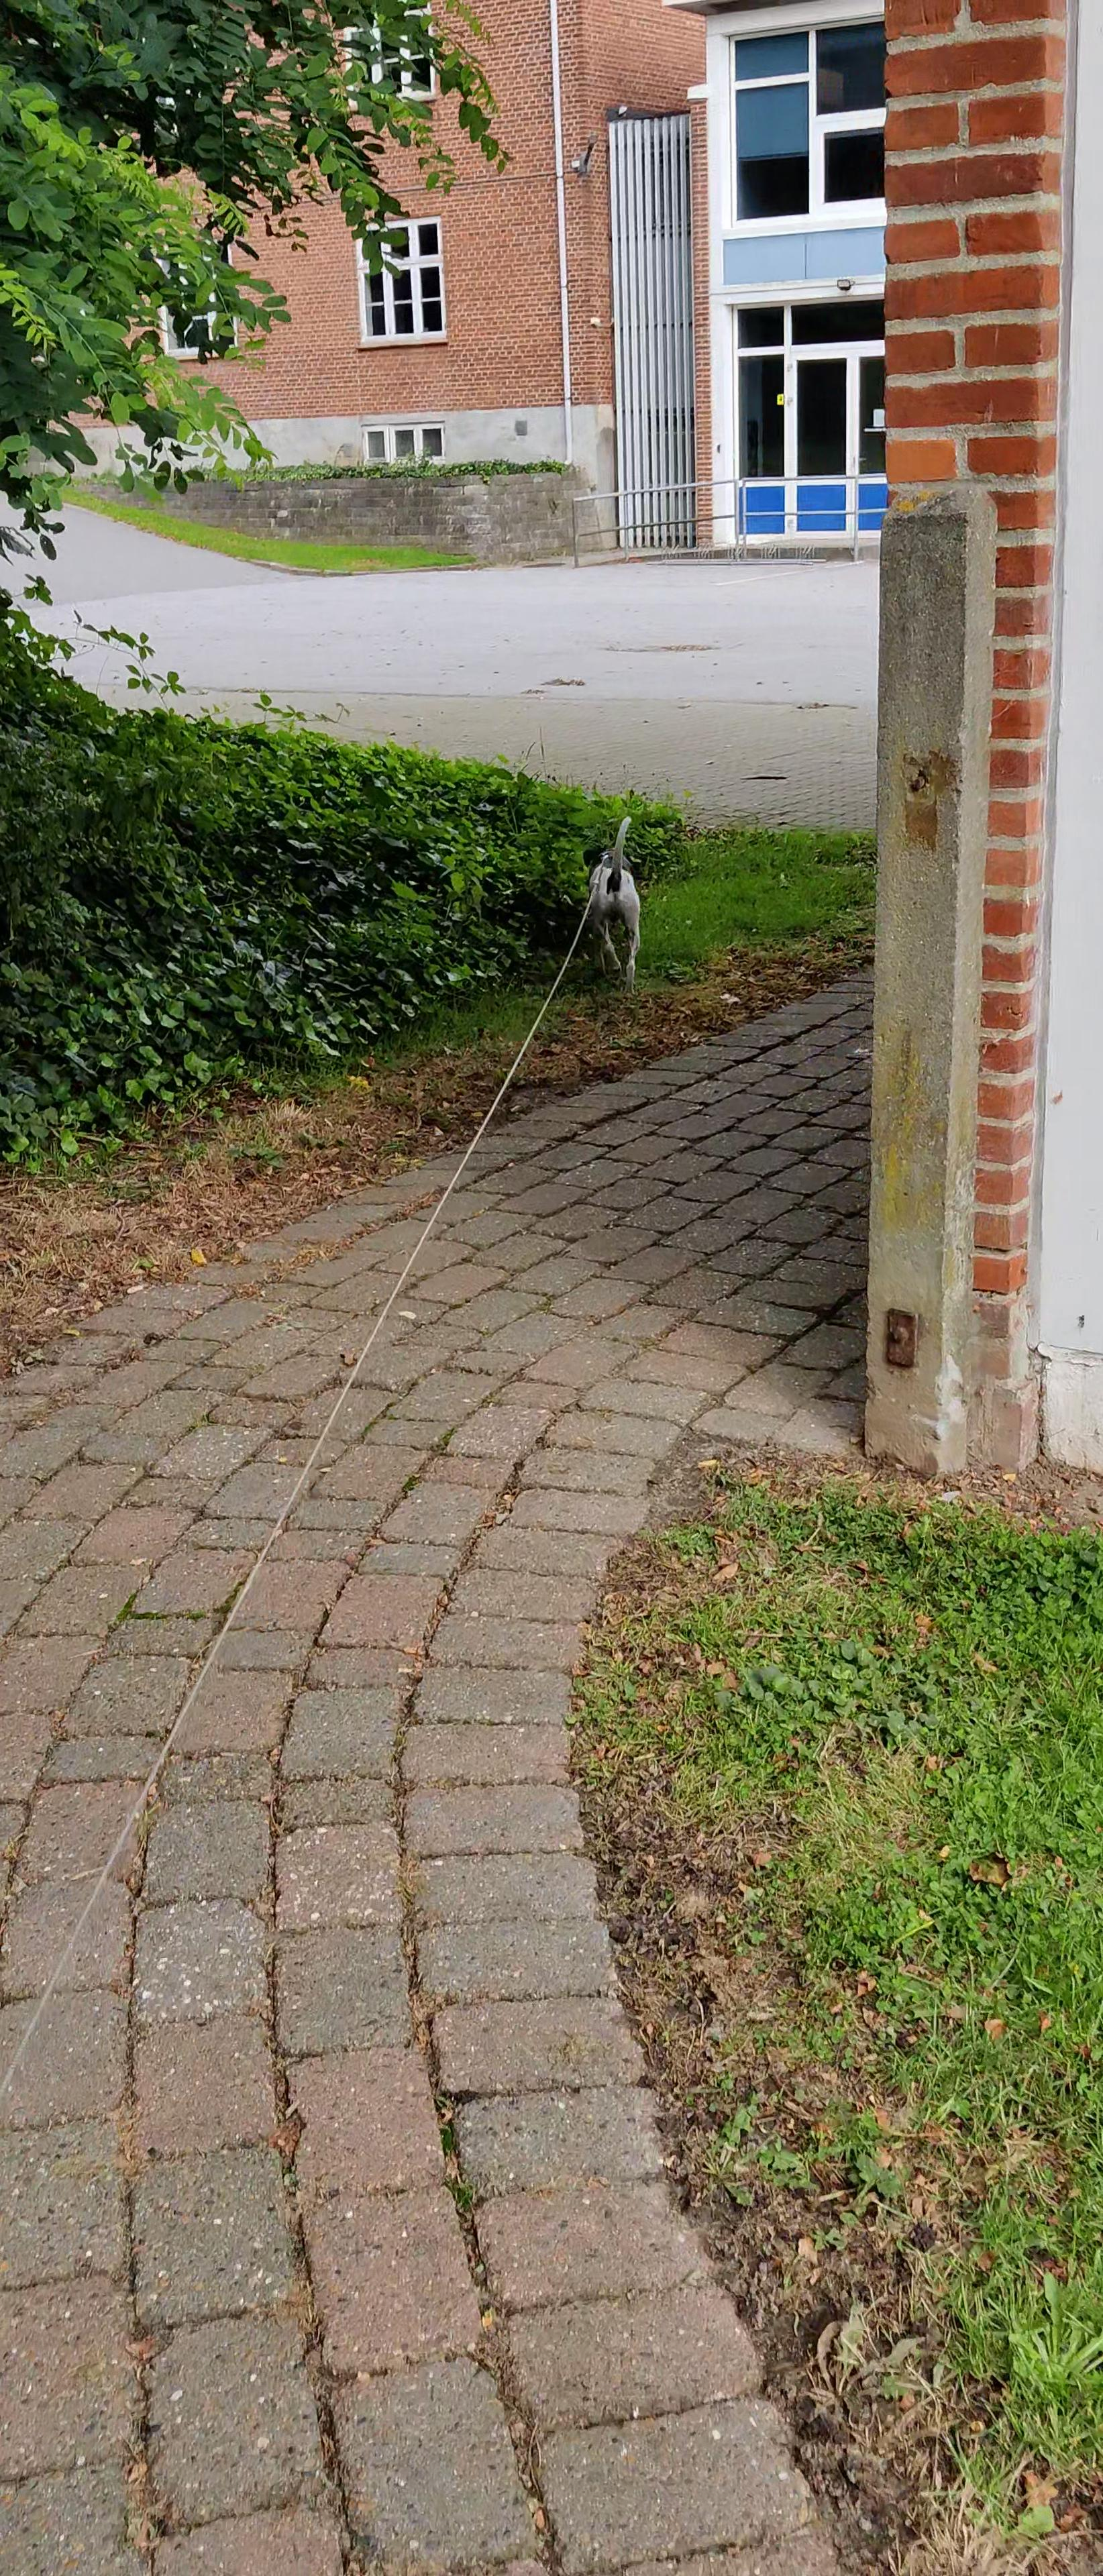Dog: (574, 808, 654, 1000)
